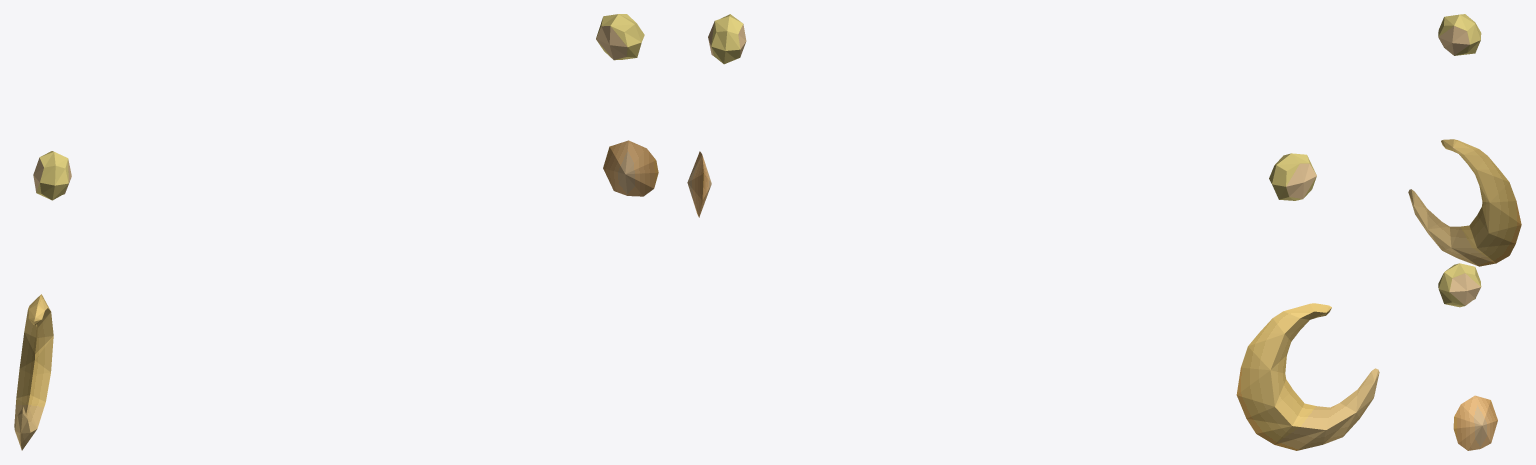
The model's file is CharSkyKid_Horn_AP31StarryEarring.glb.
3 renders of one model, left to right at view 1: azimuth 30°, elevation 25°; view 2: azimuth 150°, elevation 25°; view 3: azimuth 270°, elevation 25°, orthographic. The views are drawn at different scales.
Parts seen in each view (by area): view 1: CharSkyKid_Horn_AP31StarryEarring; view 2: CharSkyKid_Horn_AP31StarryEarring; view 3: CharSkyKid_Horn_AP31StarryEarring.
Part boxes in pixels (<box>): CharSkyKid_Horn_AP31StarryEarring: <box>14,14,658,450</box>; CharSkyKid_Horn_AP31StarryEarring: <box>687,14,1379,450</box>; CharSkyKid_Horn_AP31StarryEarring: <box>1408,14,1521,450</box>.
Size of the model in its own units: 2.44 by 1.01 by 0.401.
1 material, 1 textured.
